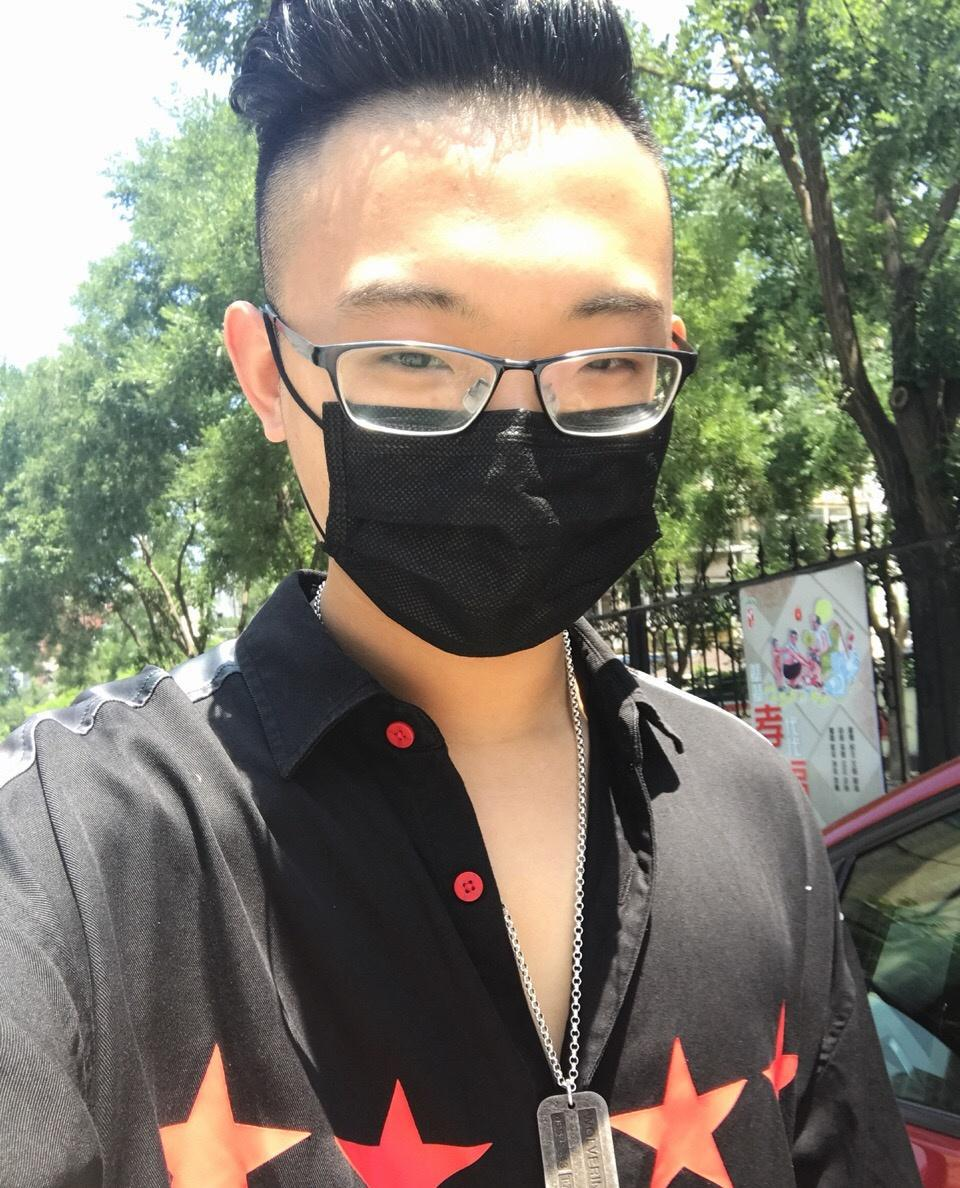OK: (265, 235, 680, 650)
